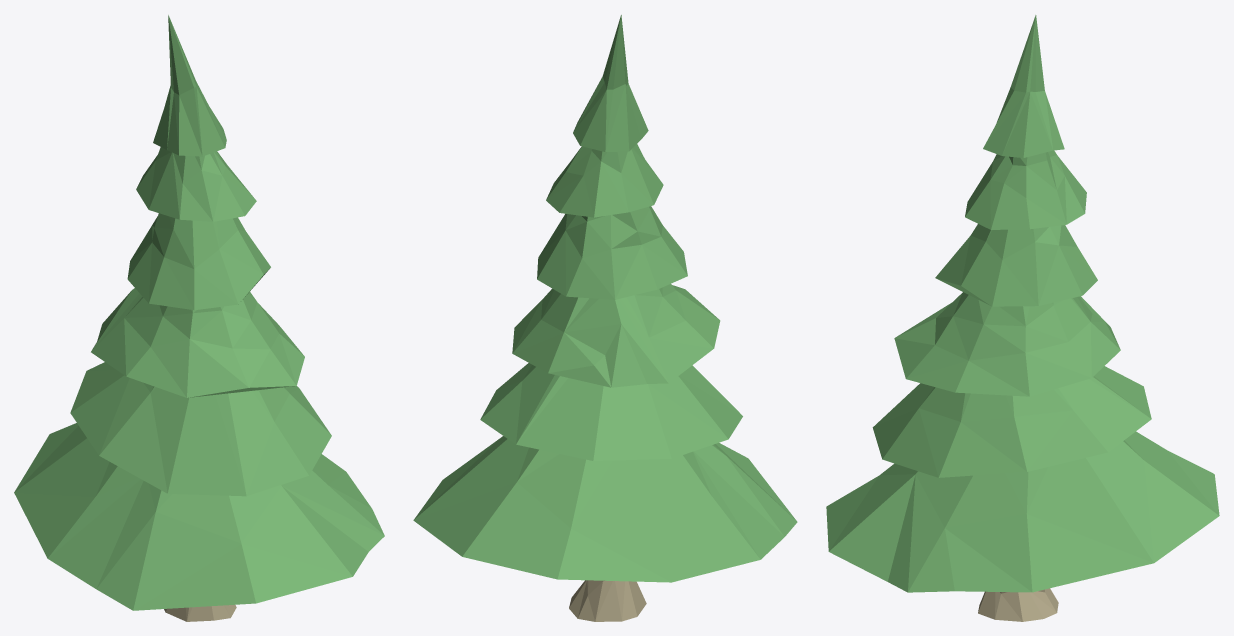
The model's file is LowPoly - FirTree A.FBX.
3 renders of one model, left to right at view 1: azimuth 30°, elevation 25°; view 2: azimuth 150°, elevation 25°; view 3: azimuth 270°, elevation 25°, orthographic. The views are drawn at different scales.
Parts seen in each view (by area): view 1: LowPolyFirTree_01; view 2: LowPolyFirTree_01; view 3: LowPolyFirTree_01.
Boxes of the visible parts, x1,y1,x2,y2 form: LowPolyFirTree_01: (14,15,384,621); LowPolyFirTree_01: (413,15,797,621); LowPolyFirTree_01: (826,15,1219,621).
Size of the model in its own units: 514 by 953 by 581.
